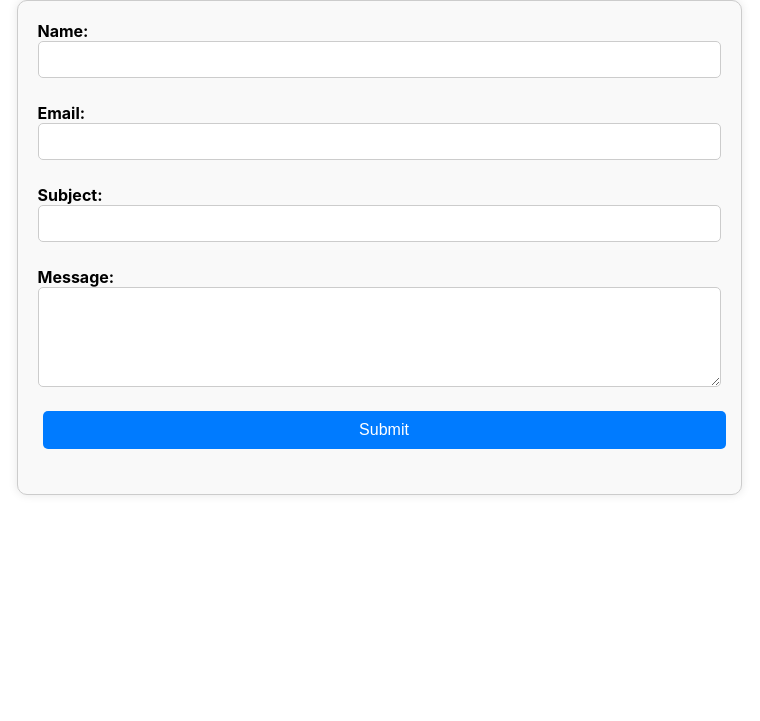
ContactUs Component › displays validation errors when fields are empty on submit
Note: find and click on the submit button without entering any information
Click the button "Submit" at (384, 430), box [42,411,726,449]
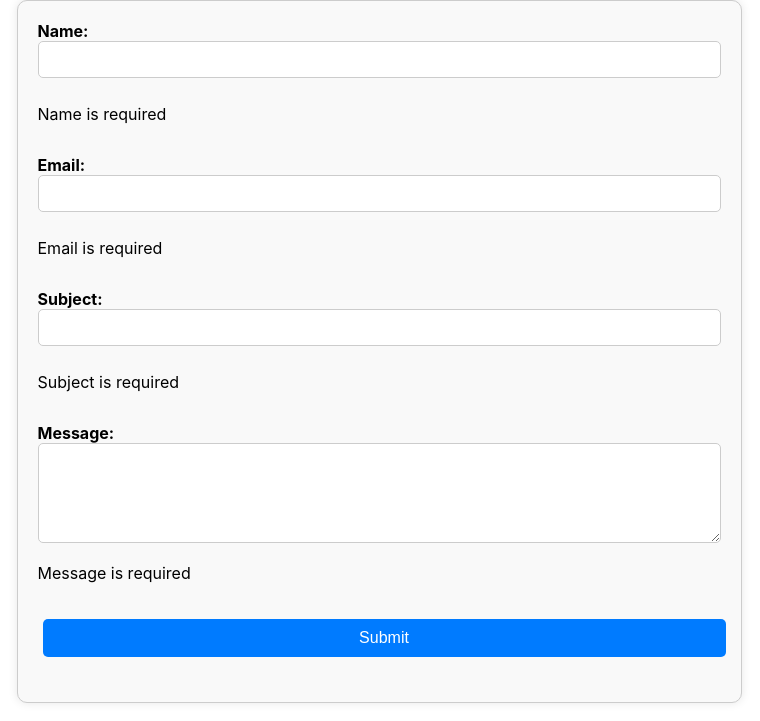
Expected: the text "Email is required" is shown, [38,238,162,258]
Expected: the text "Subject is required" is shown, [38,372,179,392]
Expected: the text "Name is required" is shown, [38,104,166,124]
